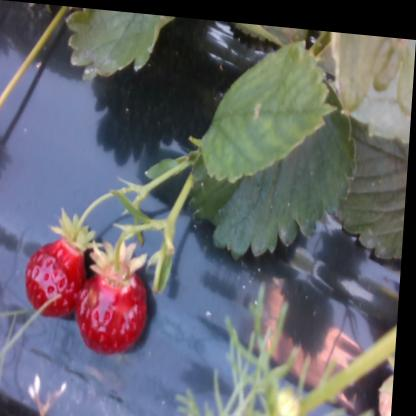ripe: (82, 262, 162, 356), (26, 231, 92, 319)
